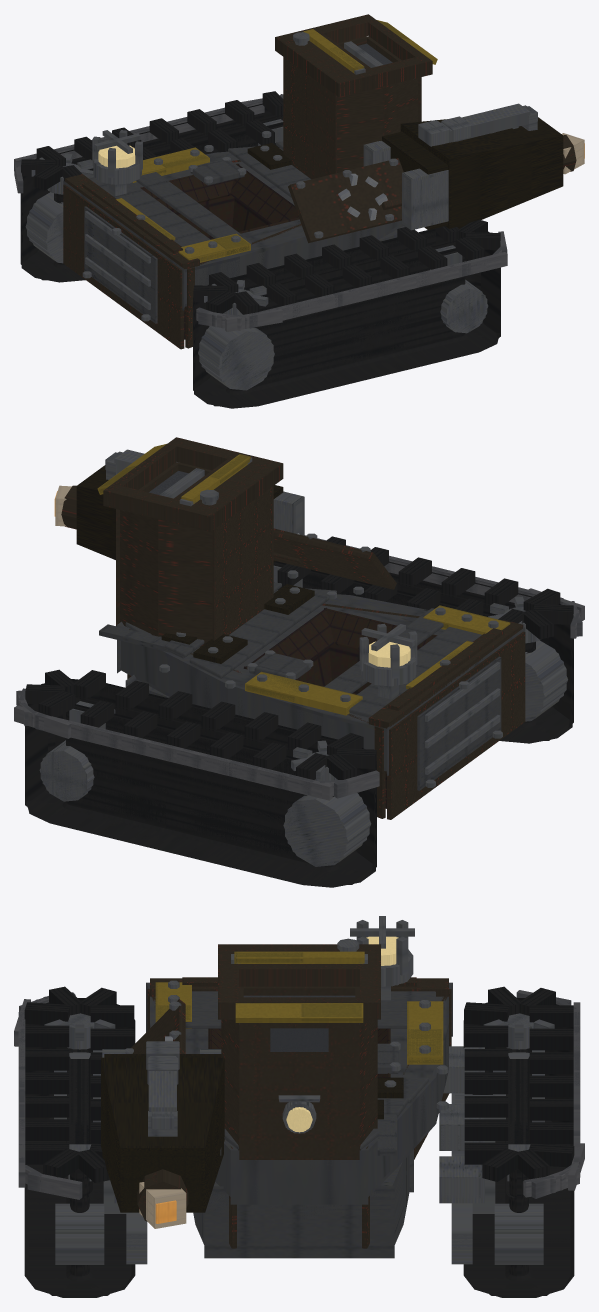
Rendered from rover.glb.
3 views of the same model, one above another, from view 1: azimuth 30°, elevation 25°; view 2: azimuth 150°, elevation 25°; view 3: azimuth 270°, elevation 25° (orthographic). The views are drawn at different scales.
Parts seen in each view (by area): view 1: LOD0_Merged_Material_Steel, LOD0_Merged_Material_Track, LOD1_Merged_Material_Scar, LOD0_Merged_Material_Scar, LOD0_track_R, LOD2_track_R, LOD1_track_R, LOD1_Merged_Material_Steel, LOD1_Merged_Material_Chevron_Boom, LOD2_scar_plate, LOD0_track_L, LOD0_Merged_Material_Chevron_Boom (+15 smaller); view 2: LOD0_Merged_Material_Steel, LOD1_Merged_Material_Scar, LOD0_Merged_Material_Track, LOD2_track_L, LOD1_Merged_Material_Steel, LOD0_track_L, LOD0_Merged_Material_Scar, LOD1_track_L, LOD0_track_R, LOD0_hopper_lid, LOD1_Merged_Material_Track, LOD1_Merged_Material_Livery (+17 smaller); view 3: LOD0_Merged_Material_Steel, LOD0_Merged_Material_Scar, LOD0_track_L, LOD1_Merged_Material_Scar, LOD0_Merged_Material_Track, LOD0_track_R, LOD1_Merged_Material_Steel, LOD1_Merged_Material_Chevron_Boom, LOD0_Merged_Material_Chevron_Boom, LOD0_Merged_Material_Livery, LOD1_track_L, LOD1_track_R (+15 smaller).
Boxes of the visible parts, x1,y1,x2,y2 form: LOD0_Merged_Material_Steel: (27,32,487,390); LOD0_Merged_Material_Track: (15,96,505,404); LOD1_Merged_Material_Scar: (63,14,432,349); LOD0_Merged_Material_Scar: (64,15,430,347); LOD0_track_R: (193,219,500,314); LOD2_track_R: (193,228,500,406); LOD1_track_R: (194,229,498,408); LOD1_Merged_Material_Steel: (25,42,488,390); LOD1_Merged_Material_Chevron_Boom: (382,117,563,229); LOD2_scar_plate: (290,158,403,240); LOD0_track_L: (21,91,283,190); LOD0_Merged_Material_Chevron_Boom: (383,119,558,227); LOD0_Merged_Material_Steel: (40,457,566,866); LOD1_Merged_Material_Scar: (103,437,525,819); LOD0_Merged_Material_Track: (18,540,580,886); LOD2_track_L: (25,681,376,884); LOD1_Merged_Material_Steel: (39,500,567,866); LOD0_track_L: (25,669,376,779); LOD0_Merged_Material_Scar: (104,438,522,818); LOD1_track_L: (28,679,375,887); LOD0_track_R: (277,536,573,639); LOD0_hopper_lid: (417,657,500,788); LOD1_Merged_Material_Track: (16,535,582,798); LOD1_Merged_Material_Livery: (97,444,510,715); LOD0_Merged_Material_Steel: (44,916,554,1264); LOD0_Merged_Material_Scar: (149,945,449,1247); LOD0_track_L: (464,986,574,1181); LOD1_Merged_Material_Scar: (147,944,451,1248); LOD0_Merged_Material_Track: (19,992,579,1293); LOD0_track_R: (24,986,134,1182); LOD1_Merged_Material_Steel: (55,951,544,1264); LOD1_Merged_Material_Chevron_Boom: (101,1054,224,1212); LOD0_Merged_Material_Chevron_Boom: (101,1055,224,1209); LOD0_Merged_Material_Livery: (157,952,441,1063); LOD1_track_L: (463,998,574,1297); LOD1_track_R: (24,998,135,1297).
Bounding box in the file's own units: 1.92 × 1.02 × 1.75.
3 materials, 3 textured.
